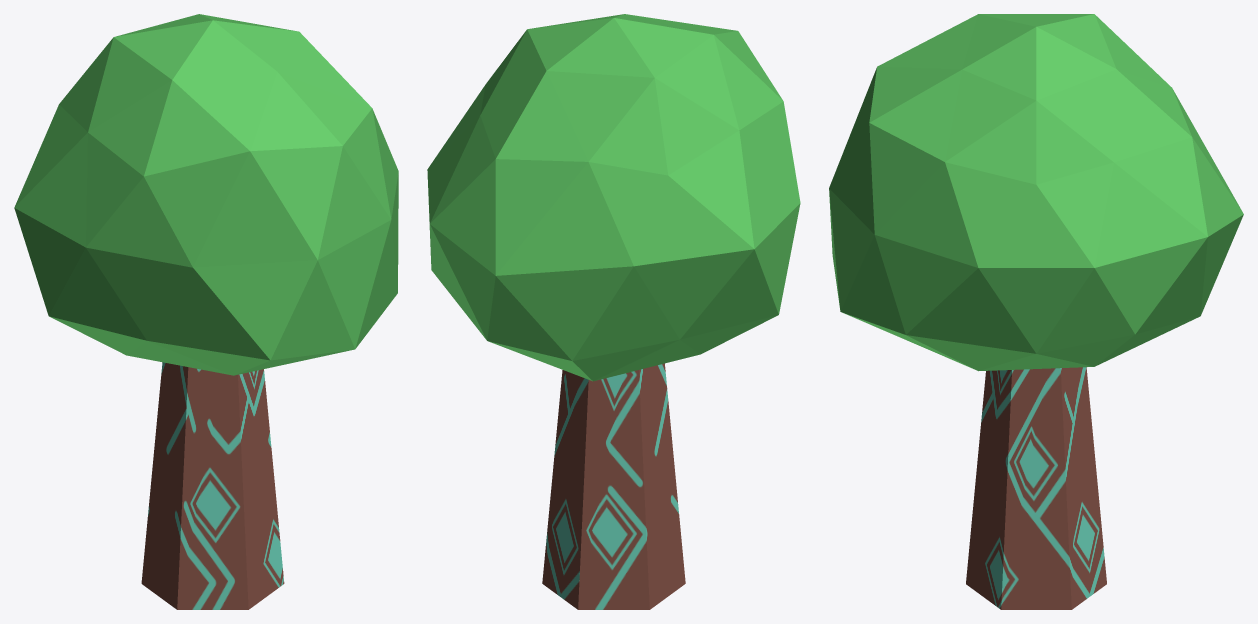
Rendered from tree2.fbx.
The picture shows the model from 3 angles, left to right: view 1: azimuth 30°, elevation 25°; view 2: azimuth 150°, elevation 25°; view 3: azimuth 270°, elevation 25°; orthographic projection.
Visible parts, largest first — view 1: tree2; view 2: tree2; view 3: tree2.
Part boxes in pixels (box(x1,y1,x2,y2)): tree2: box(14, 14, 398, 609); tree2: box(427, 14, 800, 609); tree2: box(829, 14, 1243, 609).
Bounding box in the file's own units: 1769 × 2924 × 1972.
